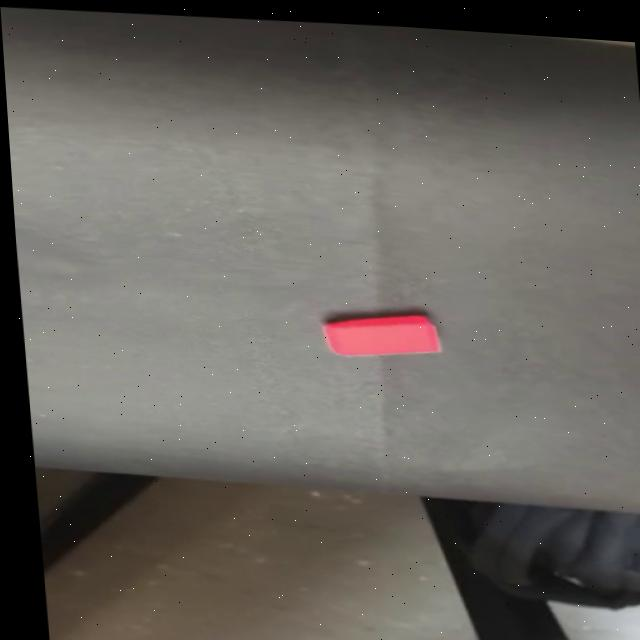red block: (320, 307, 444, 363)
